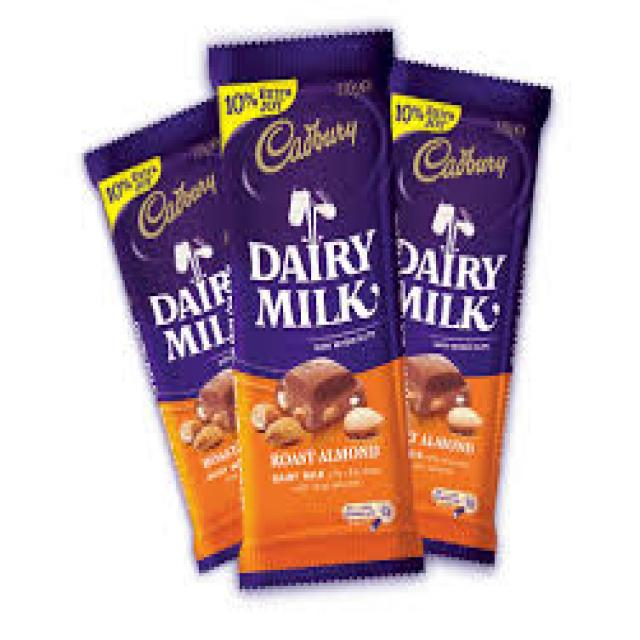cadbury: (212, 45, 417, 597), (352, 66, 556, 588), (82, 82, 274, 588)
